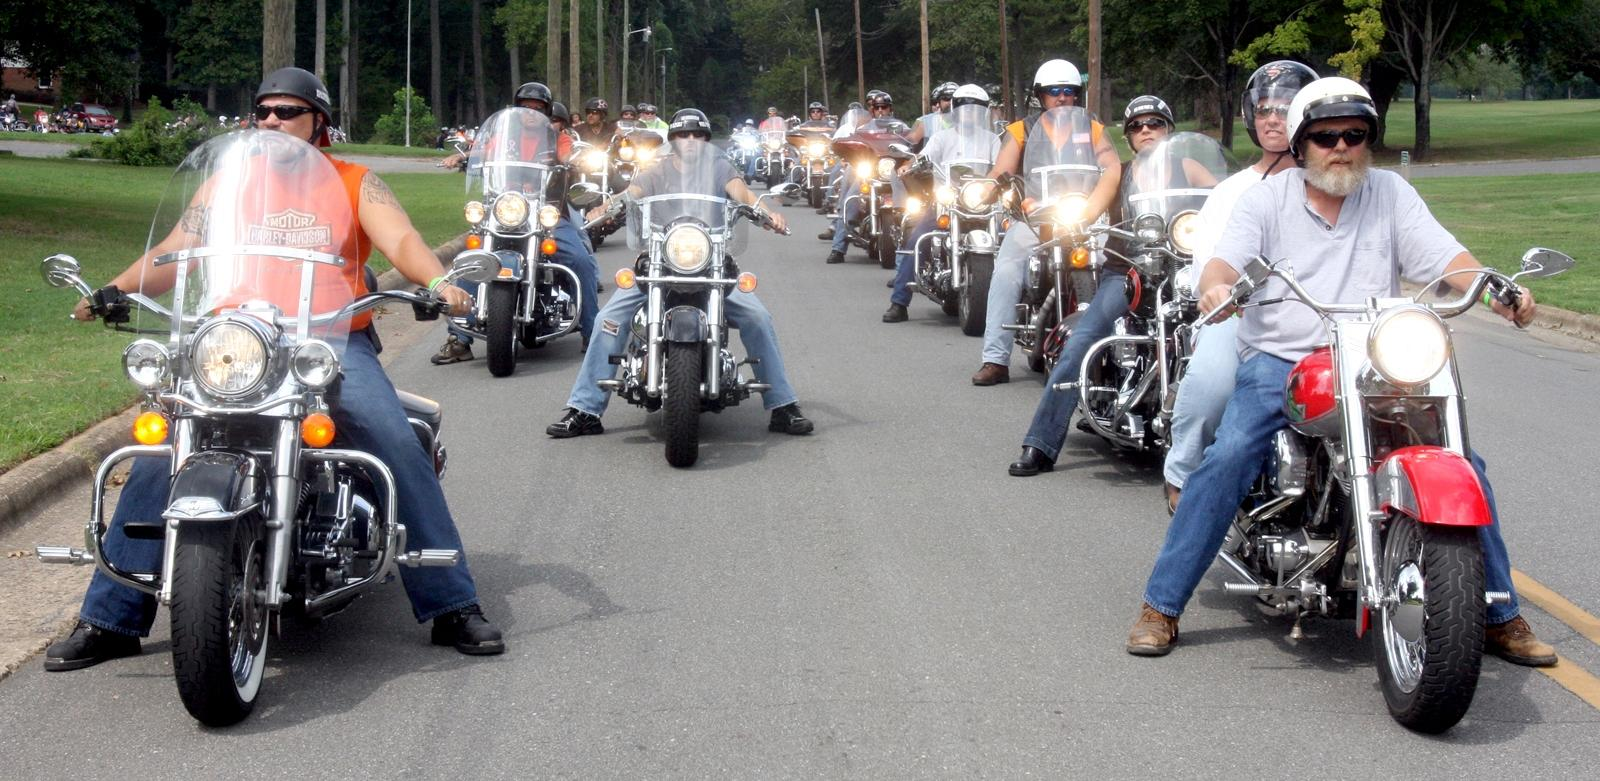helmet: (73, 42, 455, 622), (1230, 81, 1553, 600), (621, 99, 794, 449), (1101, 91, 1206, 315), (471, 67, 584, 256), (1017, 42, 1126, 227)
